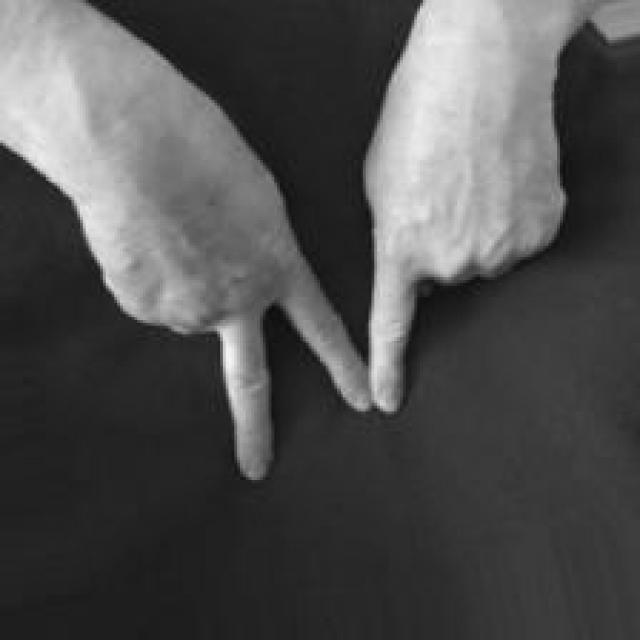N: (96, 14, 575, 493)
